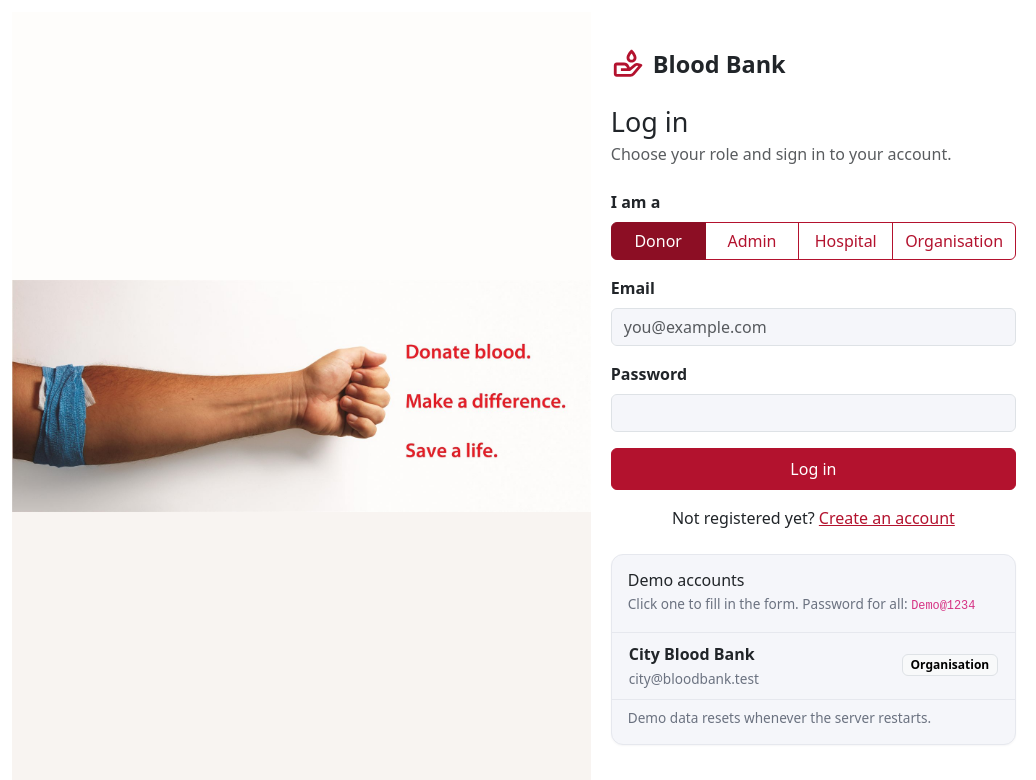
Login page › lists demo accounts and fills the form when one is picked
Click the button "City Blood Bank" at (692, 654), box [612,633,1015,699]
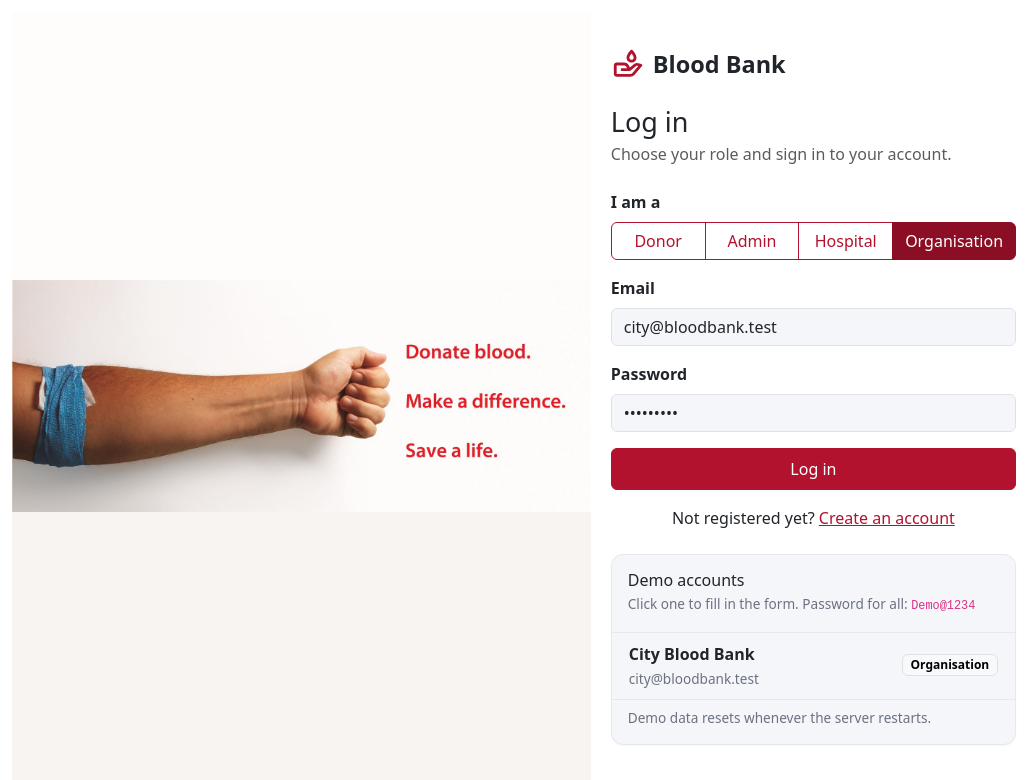
Expected: the field labelled "Email" holds "city@bloodbank.test", [611,308,1016,346]
Expected: the password field labelled "Password" holds "Demo@1234", [611,394,1016,432]
Expected: the radio button labelled "Organisation" is checked, [611,222,624,235]
